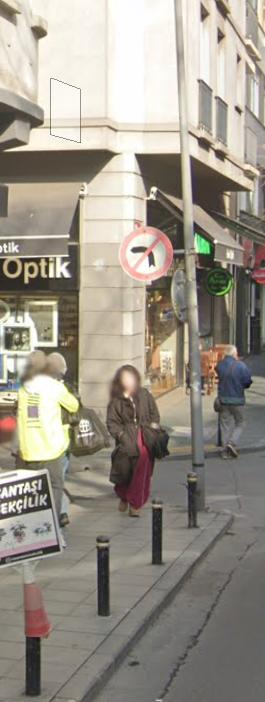leftturnsareforbidden: (126, 233, 172, 277)
